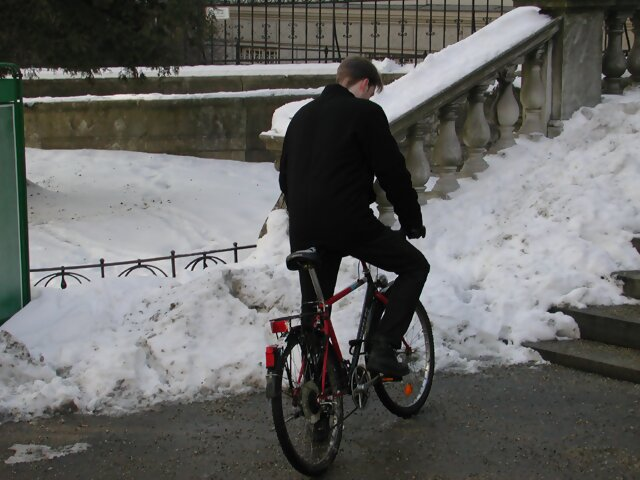person: (276, 46, 436, 444)
